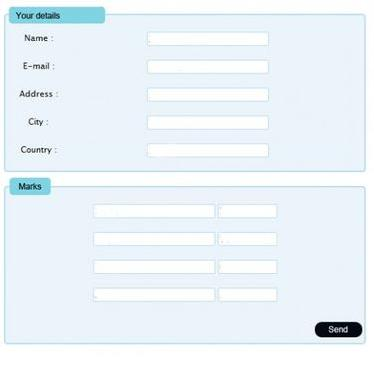button: (313, 320, 364, 339)
field: (145, 57, 269, 76), (145, 113, 271, 131), (145, 86, 270, 103), (145, 142, 270, 159), (146, 30, 270, 47), (93, 231, 217, 246), (91, 287, 215, 302), (93, 204, 216, 219), (92, 260, 215, 274), (218, 231, 279, 247), (217, 204, 279, 219), (217, 287, 279, 302), (217, 259, 278, 274)
